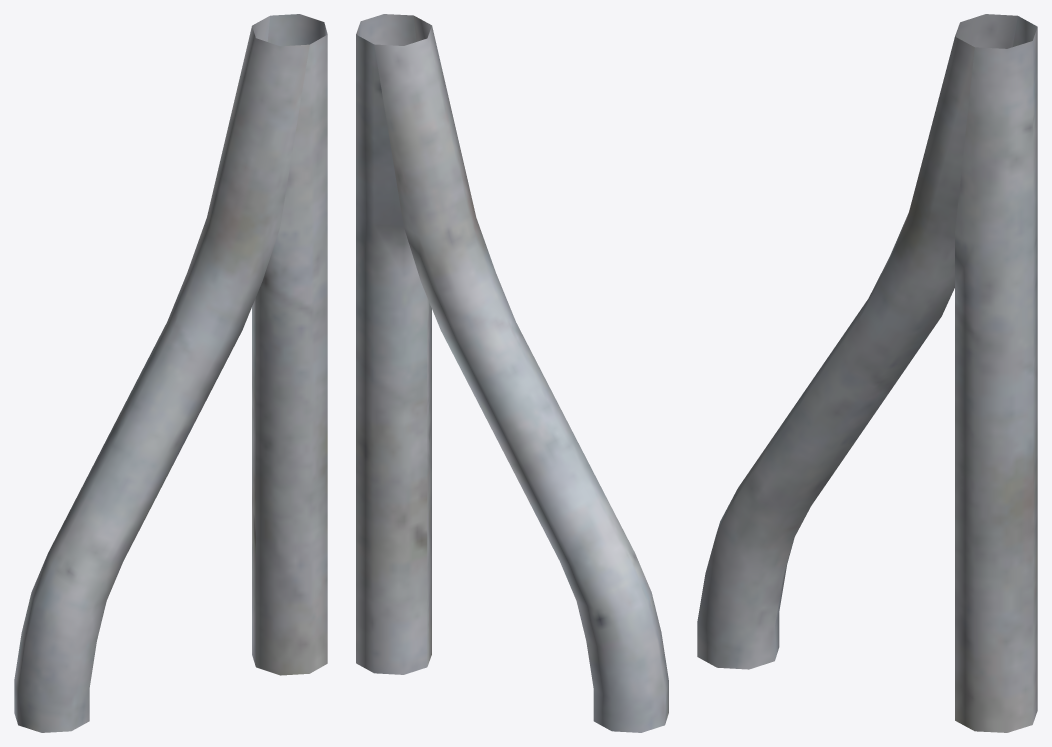
File: SM_Pipe_Dual_Connector_01a.glb
3 renders of one model, left to right at view 1: azimuth 30°, elevation 25°; view 2: azimuth 150°, elevation 25°; view 3: azimuth 330°, elevation 25°, orthographic. The views are drawn at different scales.
Visible parts, largest first — view 1: SM_Pipe_Dual_Connector_01a; view 2: SM_Pipe_Dual_Connector_01a; view 3: SM_Pipe_Dual_Connector_01a.
Part boxes in pixels (box(x1,y1,x2,y2)): SM_Pipe_Dual_Connector_01a: box(14, 14, 327, 732); SM_Pipe_Dual_Connector_01a: box(356, 14, 668, 732); SM_Pipe_Dual_Connector_01a: box(697, 14, 1037, 732).
Bounding box in the file's own units: 0.127 × 0.25 × 0.0285.
Materials: 1 (1 with a texture image).
